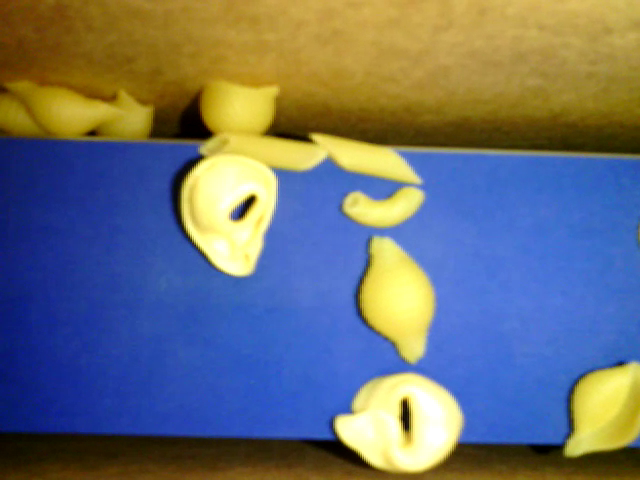elbow: (339, 183, 424, 232)
penne: (313, 133, 424, 184), (198, 134, 330, 176)
shell: (352, 230, 441, 364), (557, 357, 639, 456), (1, 78, 132, 137), (196, 77, 284, 139), (93, 90, 160, 139), (1, 90, 61, 135)
tortellini: (328, 374, 464, 472), (177, 153, 275, 273)
